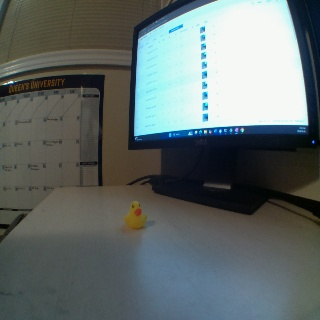duck_regular: (122, 200, 148, 229)
